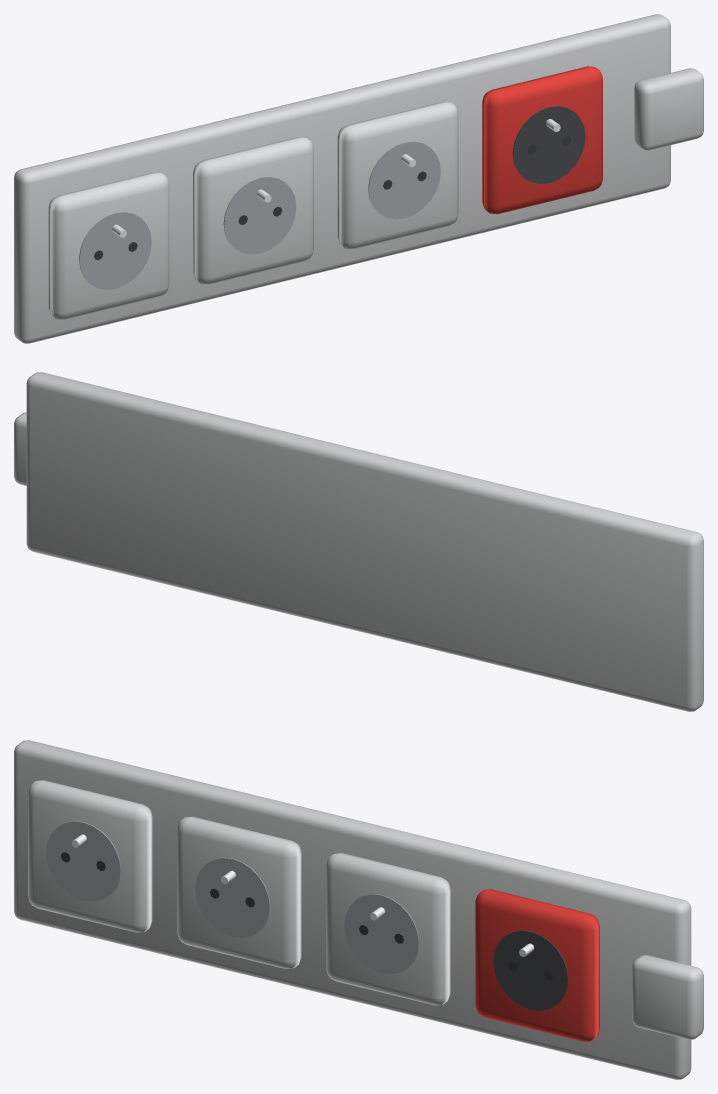
Rendered from prises.glb.
3 views of the same model, one above another, from view 1: azimuth 30°, elevation 25°; view 2: azimuth 150°, elevation 25°; view 3: azimuth 330°, elevation 25° (orthographic). The views are drawn at different scales.
Parts seen in each view (by area): view 1: prises; view 2: prises; view 3: prises.
Part boxes in pixels (x1=…): prises: x1=14, y1=14, x2=703, y2=343; prises: x1=14, y1=372, x2=703, y2=711; prises: x1=14, y1=740, x2=703, y2=1079.
Size of the model in its own units: 0.3725 by 0.09 by 0.03.
